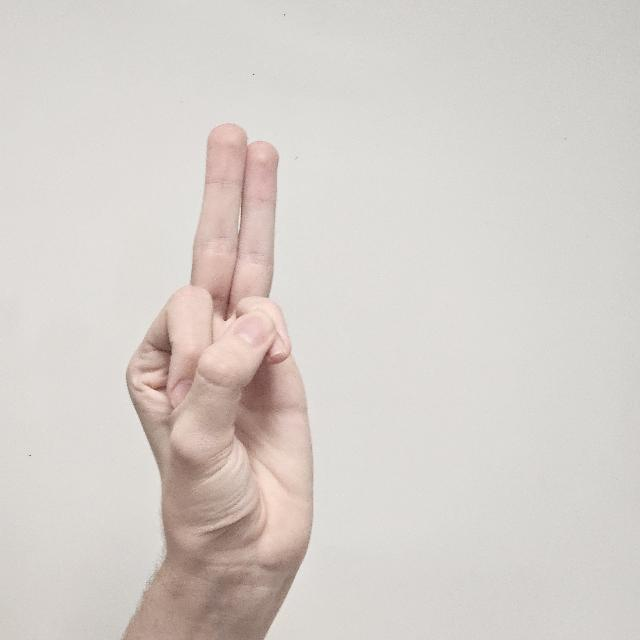R: (121, 121, 316, 576)
